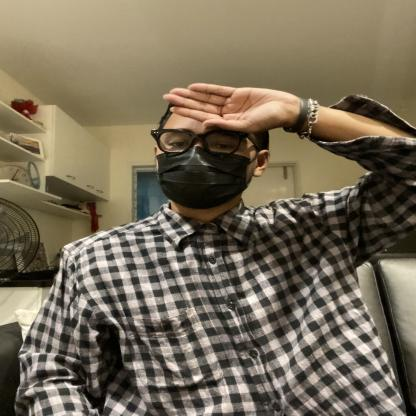Sick: (78, 57, 366, 182)
